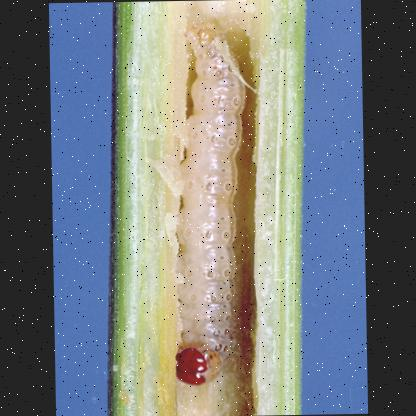Asian Corn Borer Larvae: (165, 20, 255, 388)
